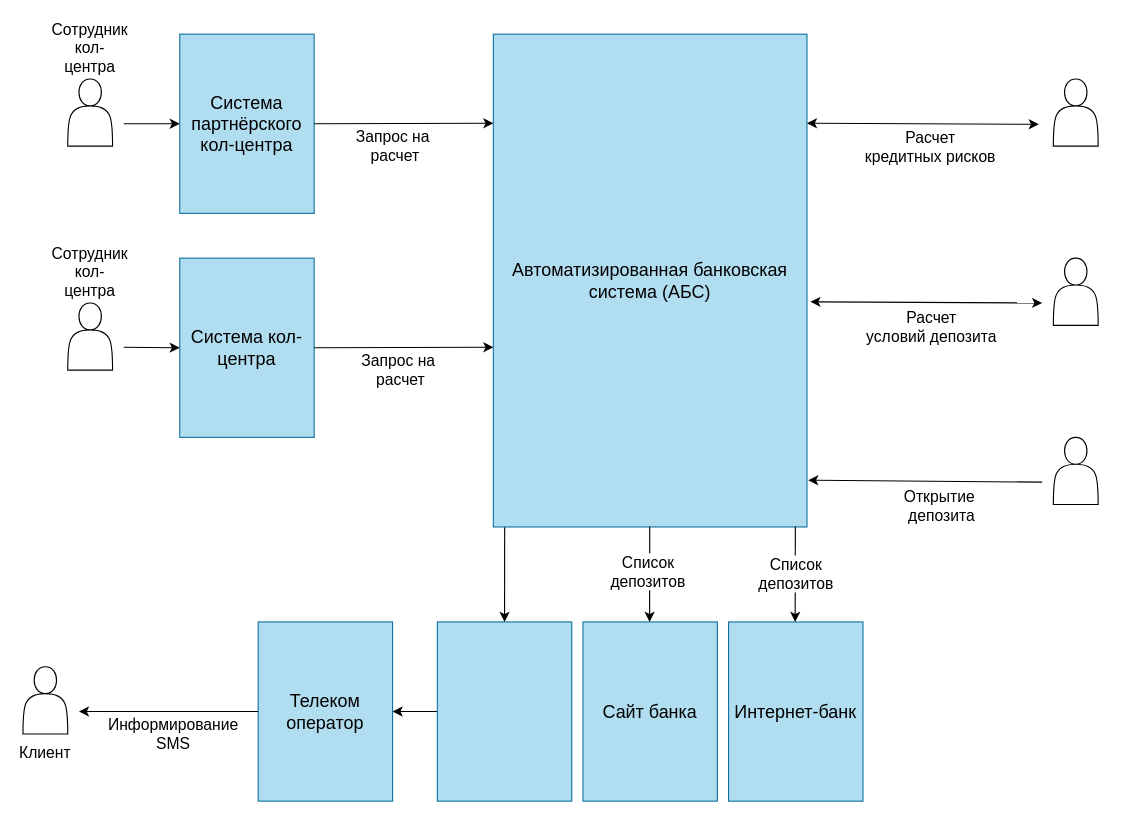
Some shapes in this 1132 by 821 pixel diagram are drawn without their labels. Each missing label, with the centre of its shape:
"СМС-шлюз телеком-оператора" belongs at (x=504, y=711).
"Сотрудник отдела депозитов" belongs at (x=1075, y=291).
"Сотрудник отдела кредитов" belongs at (x=1075, y=112).
"Сотрудник отделения" belongs at (x=1075, y=470).
